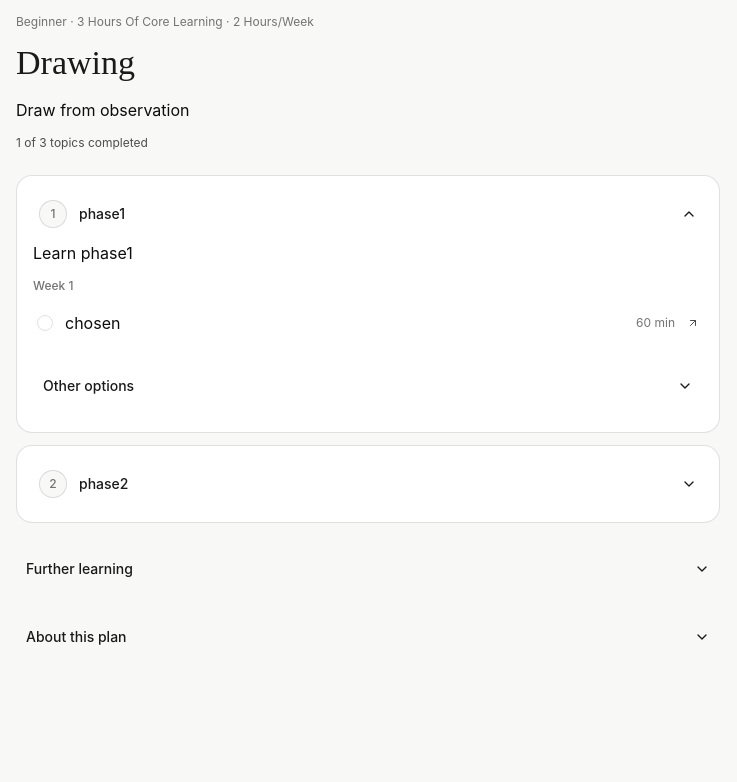
Test: keeps future weekly details inside their collapsed phase and numbers phases by position
The width and height of the screenshot is (737, 782).
Expected: the button "1 phase1" is shown, [29,188,707,240]
Expected: the heading "Week 1" is shown, [33,278,73,292]
Click the button "2 phase2". click: (104, 483)
box: [29,458,707,510]
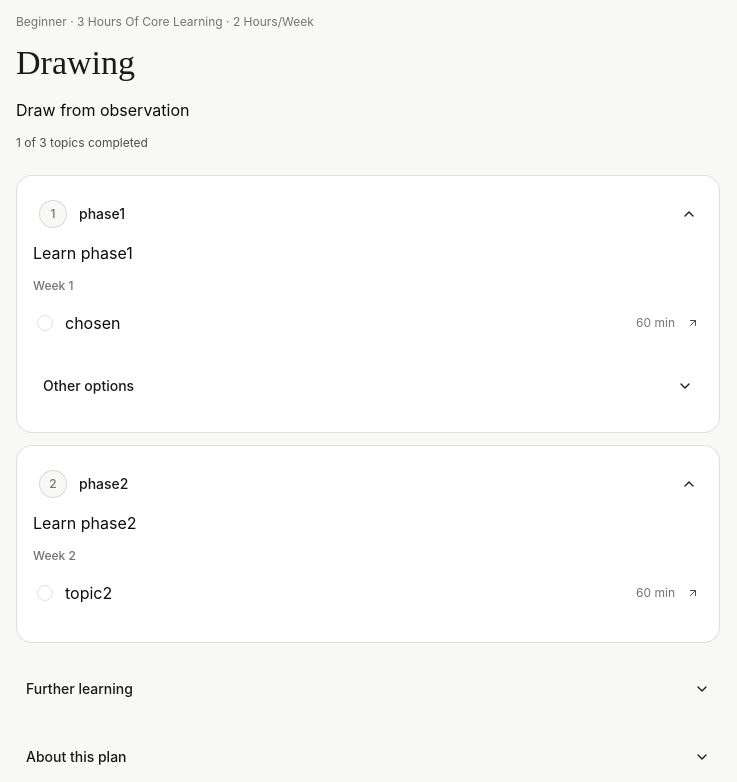
Expected: the heading "Week 2" is shown, [33,548,76,562]
